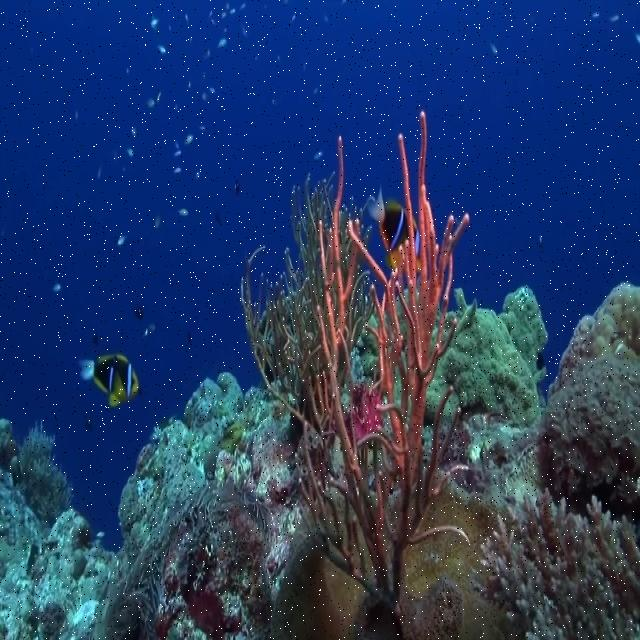aquatic plants: (474, 282, 639, 639), (425, 286, 547, 455), (22, 427, 71, 522)
fish: (369, 188, 422, 275), (79, 355, 138, 407)
reefs: (244, 105, 471, 607)
sea-floor: (2, 375, 402, 638)
